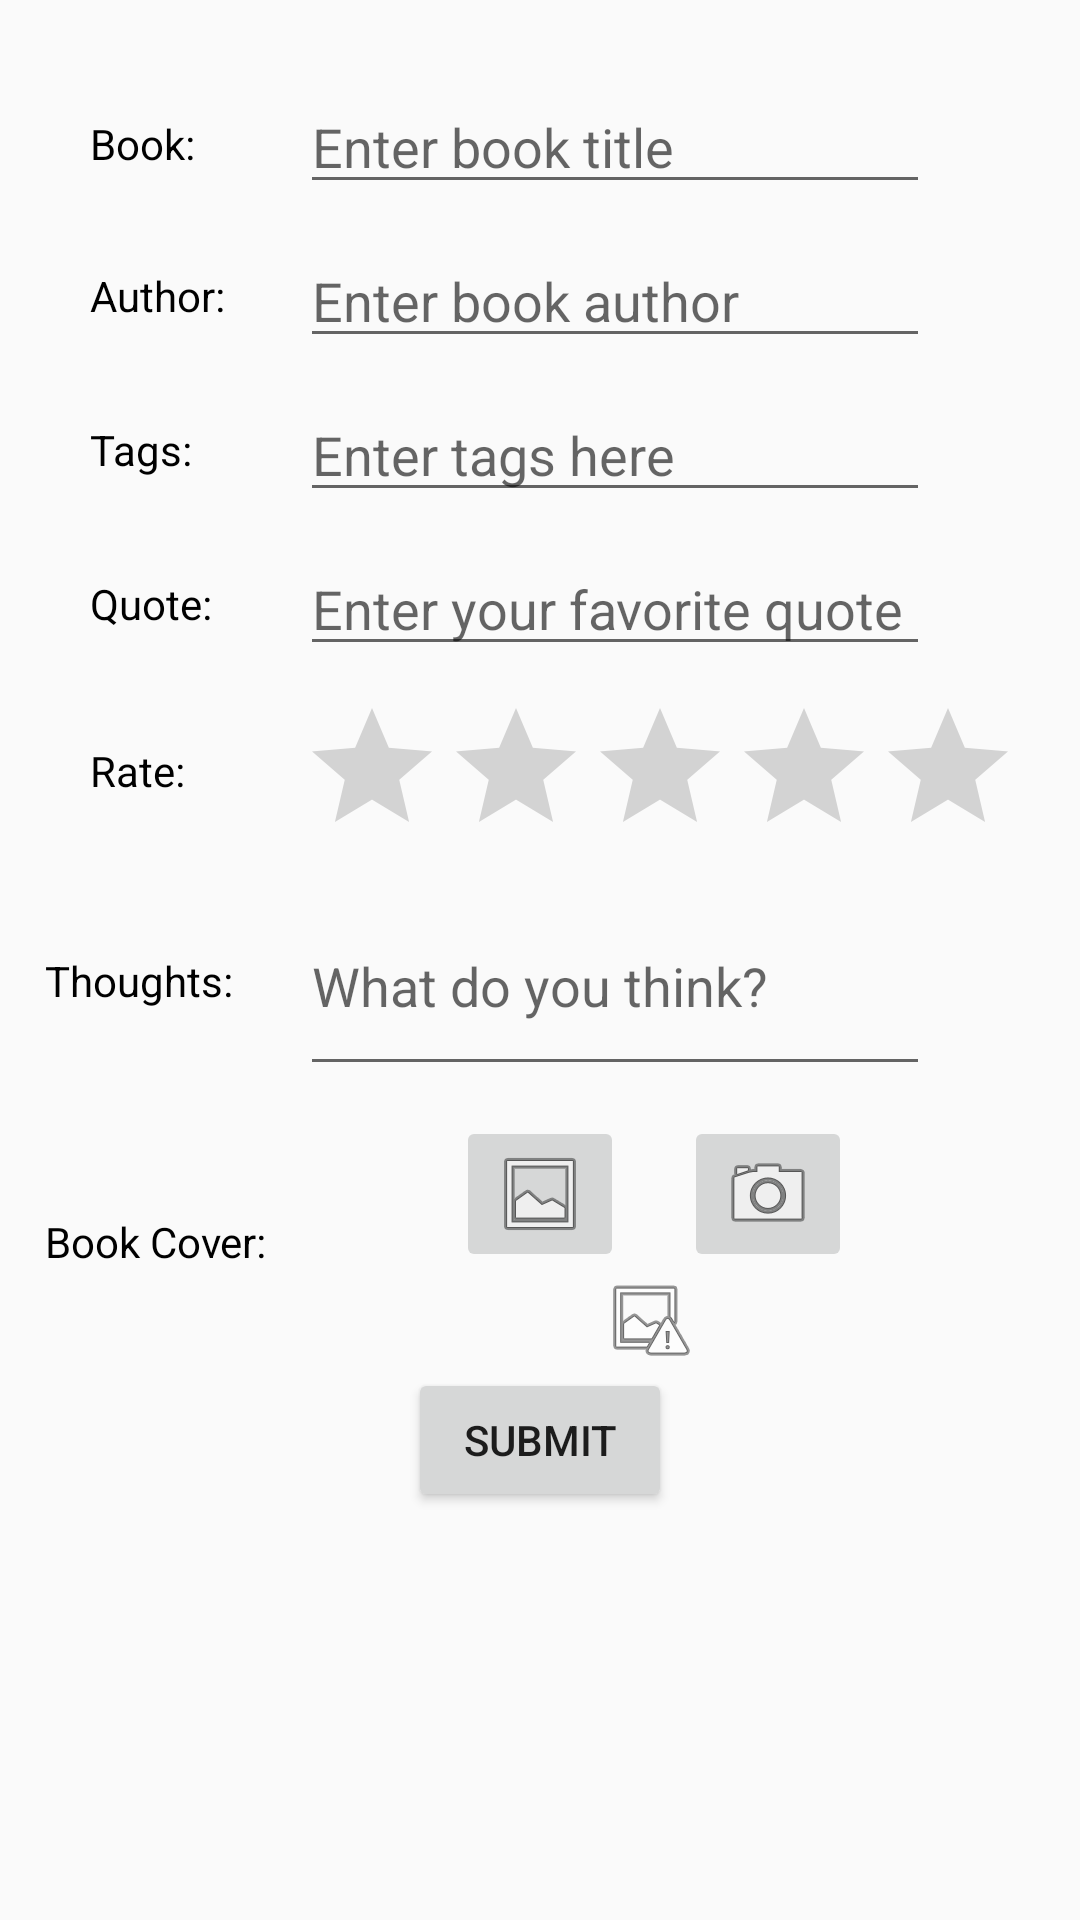

Locate icon controls on the screen. Image size 1080 × 1920, boxes as bbox=(x1, y1, x2, y2).
camera: bbox=(696, 1134, 840, 1254)
gallery: bbox=(468, 1134, 612, 1254)
